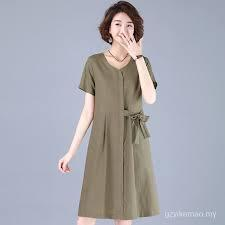dress: (78, 47, 159, 220)
